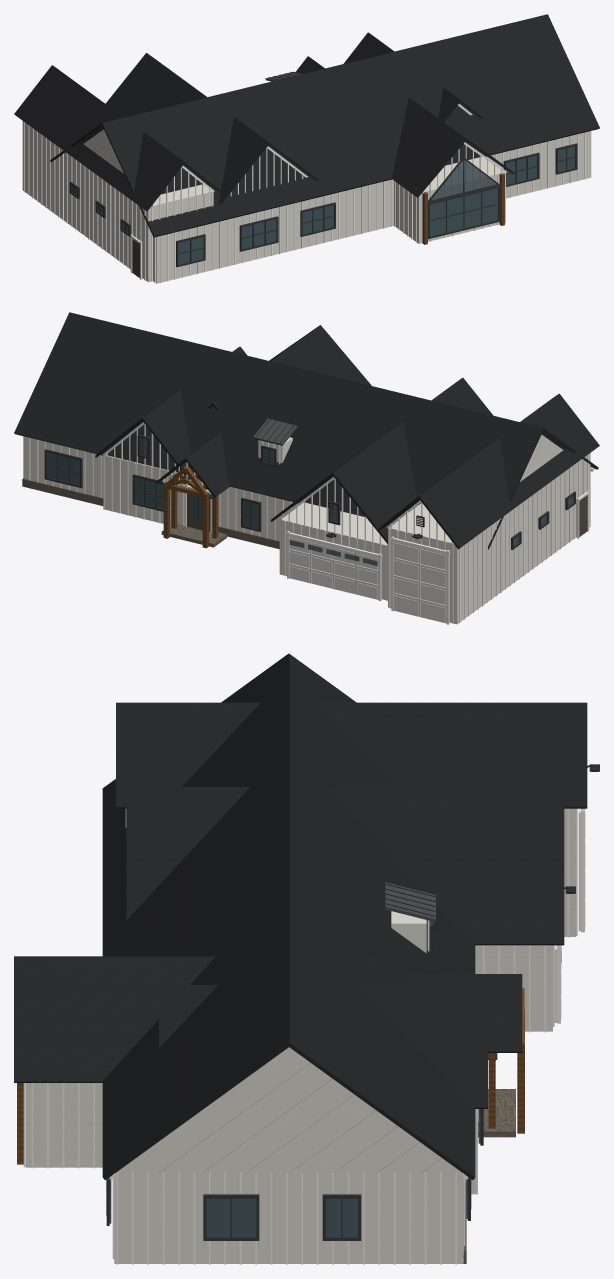
The model's file is whitestone-front.glb.
3 renders of one model, top to bottom at view 1: azimuth 30°, elevation 25°; view 2: azimuth 150°, elevation 25°; view 3: azimuth 270°, elevation 25°, orthographic. The views are drawn at different scales.
Visible parts, largest first — view 1: RoofShingles, Siding, Trim, Glass, WindowFrames, Roof, Timber; view 2: Roof, RoofShingles, Siding, Trim, GarageDoorPanels, Glass, WindowFrames, Timber, Stone, GarageDoors, GarageDoorTrim, EntryDoor (+1 smaller); view 3: Roof, Siding, RoofShingles, Trim, Glass, WindowFrames, Timber, Stone, MetalRoof.
Part boxes in pixels (x1,y1,x2,y2): RoofShingles: [14, 14, 599, 236]; Siding: [22, 121, 591, 283]; Trim: [24, 104, 585, 283]; Glass: [71, 146, 575, 264]; WindowFrames: [69, 143, 577, 267]; Roof: [33, 32, 599, 237]; Timber: [422, 173, 504, 244]; Roof: [14, 312, 598, 549]; RoofShingles: [97, 325, 599, 547]; Siding: [23, 434, 590, 624]; Trim: [29, 422, 594, 624]; GarageDoorPanels: [289, 537, 445, 622]; Glass: [47, 437, 573, 565]; WindowFrames: [44, 434, 575, 549]; Timber: [163, 466, 218, 548]; Stone: [22, 478, 279, 549]; GarageDoors: [289, 536, 446, 623]; GarageDoorTrim: [289, 541, 446, 616]; EntryDoor: [187, 493, 587, 537]; Roof: [14, 653, 587, 1180]; Siding: [25, 808, 576, 1263]; RoofShingles: [102, 654, 288, 1176]; Trim: [23, 808, 584, 1264]; Glass: [109, 920, 561, 1236]; WindowFrames: [106, 921, 483, 1240]; Timber: [17, 988, 524, 1164]; Stone: [463, 1089, 515, 1263]; MetalRoof: [384, 882, 435, 921].
Bounding box in the file's own units: 29.01 × 7.77 × 18.26.
14 materials, 5 textured.
